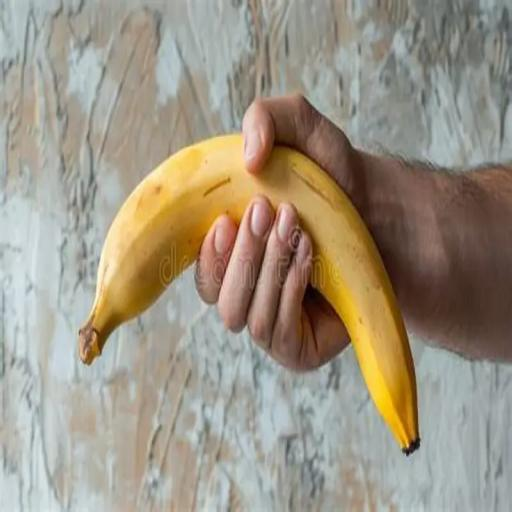banana: (79, 134, 419, 454)
